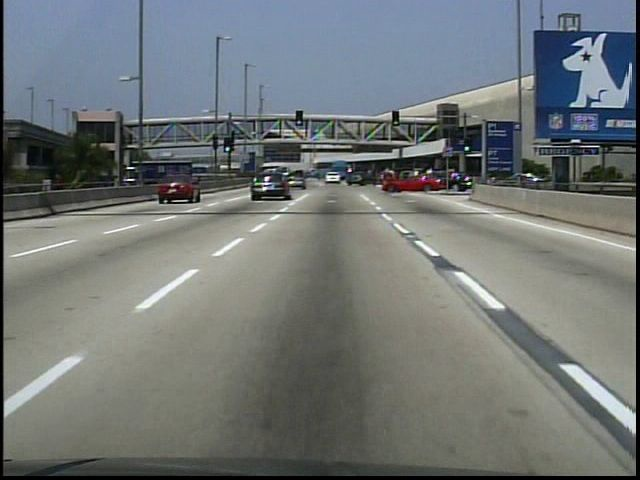person: (231, 130, 238, 143)
